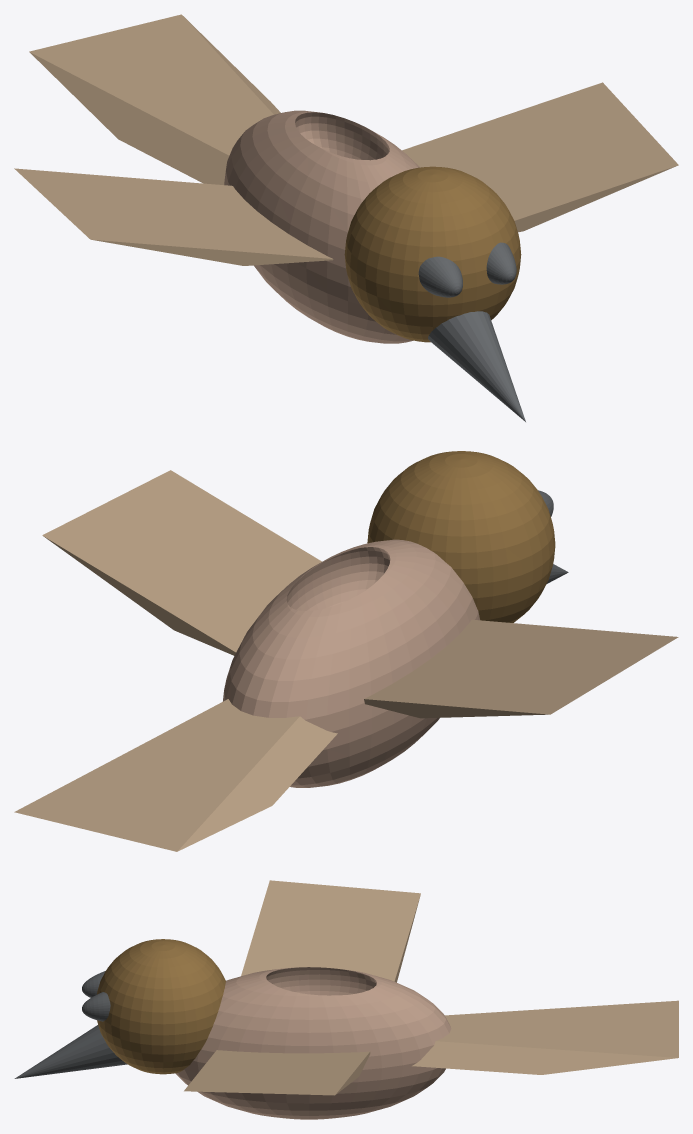
File: Terrifying birdie.glb
The picture shows the model from 3 angles, top to bottom: view 1: azimuth 30°, elevation 25°; view 2: azimuth 150°, elevation 25°; view 3: azimuth 270°, elevation 25°; orthographic projection. The views are drawn at different scales.
Visible parts, largest first — view 1: Mesh_Mesh_head_geo.001_lambert2SG.001; view 2: Mesh_Mesh_head_geo.001_lambert2SG.001; view 3: Mesh_Mesh_head_geo.001_lambert2SG.001.
Boxes of the visible parts, x1,y1,x2,y2 form: Mesh_Mesh_head_geo.001_lambert2SG.001: [14, 14, 678, 421]; Mesh_Mesh_head_geo.001_lambert2SG.001: [14, 451, 678, 851]; Mesh_Mesh_head_geo.001_lambert2SG.001: [14, 880, 678, 1119].
Bounding box in the file's own units: 72.59 × 27 × 98.
